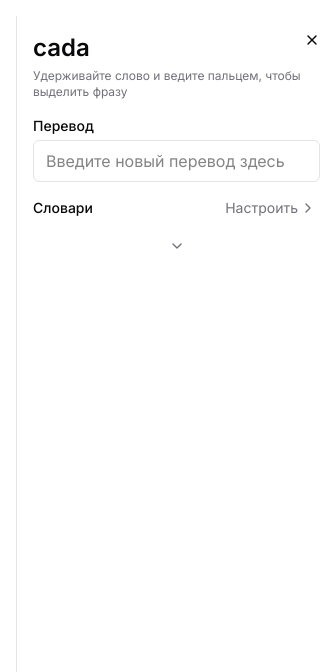
Test: WordCard core › surfaces an inline error and retries on the next blur after a failed save
The width and height of the screenshot is (336, 672).
Type "каждый" into the field with placeholder "Введите новый перевод здесь". click: (176, 161)
box: [33,140,320,182]
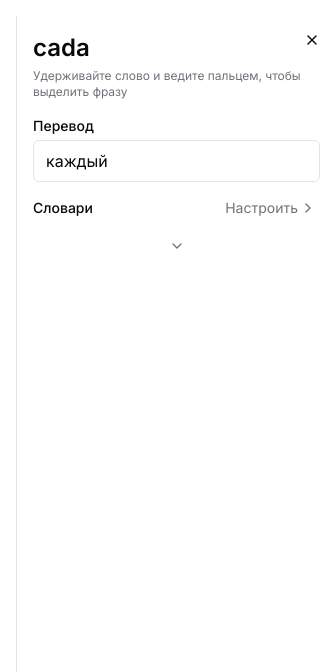
Press Enter in the field with placeholder "Введите новый перевод здесь", box [33,140,320,182]
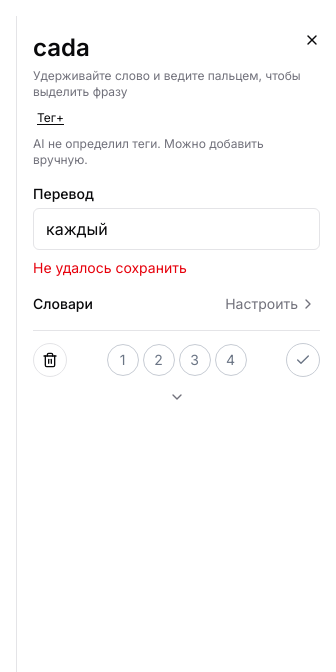
Expected: the text "Не удалось сохранить" is shown, [33,259,187,276]
# Retry: the ref was reset on failure, so the next blur re-attempts the save.
Press Enter in the field with placeholder "Введите новый перевод здесь", box [33,208,320,250]
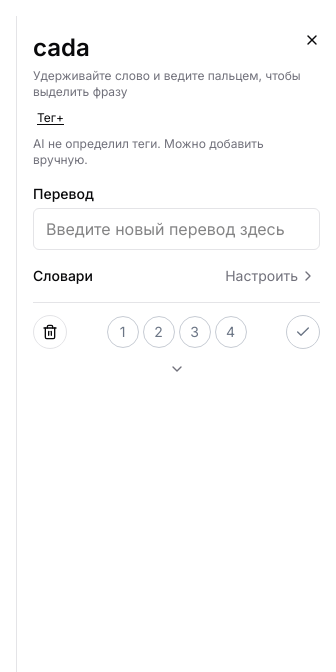
Expected: the text "Не удалось сохранить" is gone
